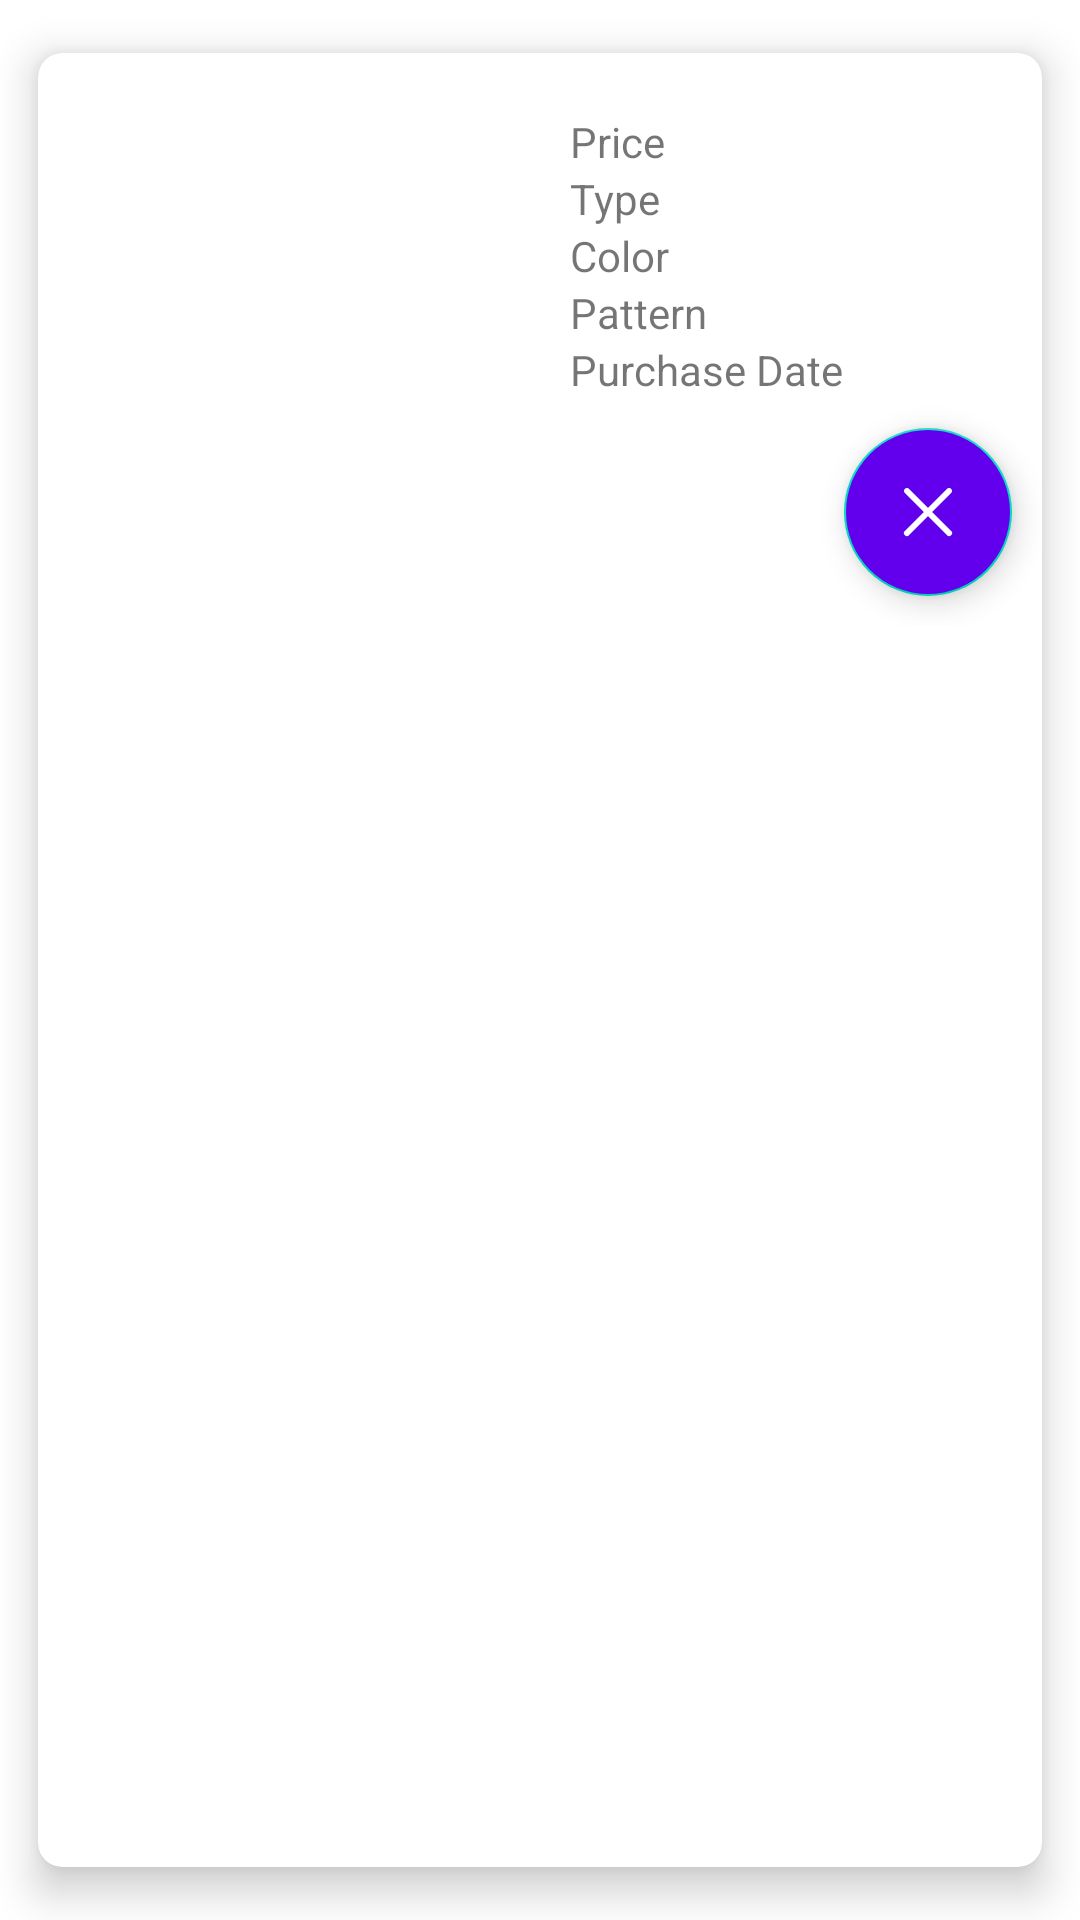

Point at icon controls on the screen. Image size 1080*1920, points as (x=x, y=y).
delete: (x=928, y=512)
